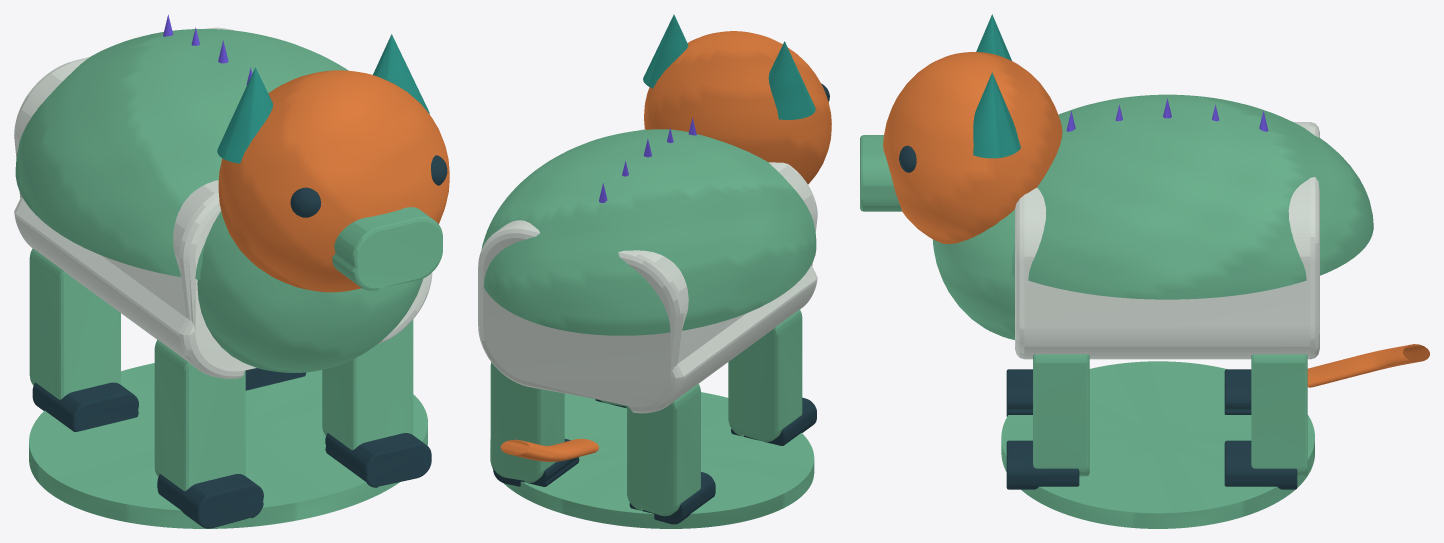
The model's file is 0142_恐龙图鉴_甲龙.glb.
3 renders of one model, left to right at view 1: azimuth 30°, elevation 25°; view 2: azimuth 150°, elevation 25°; view 3: azimuth 270°, elevation 25°, orthographic. The views are drawn at different scales.
Visible parts, largest first — view 1: card_0142; view 2: card_0142; view 3: card_0142.
Part boxes in pixels (<box>): card_0142: <box>14,14,449,528</box>; card_0142: <box>478,14,831,528</box>; card_0142: <box>860,14,1429,528</box>.
Bounding box in the file's own units: 0.7948 × 1 × 1.26.
